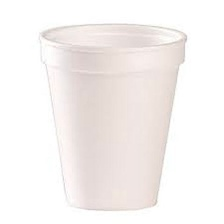paper_cup: (33, 18, 190, 214)
